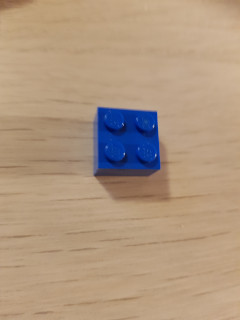2x2 blue: (90, 104, 164, 179)
